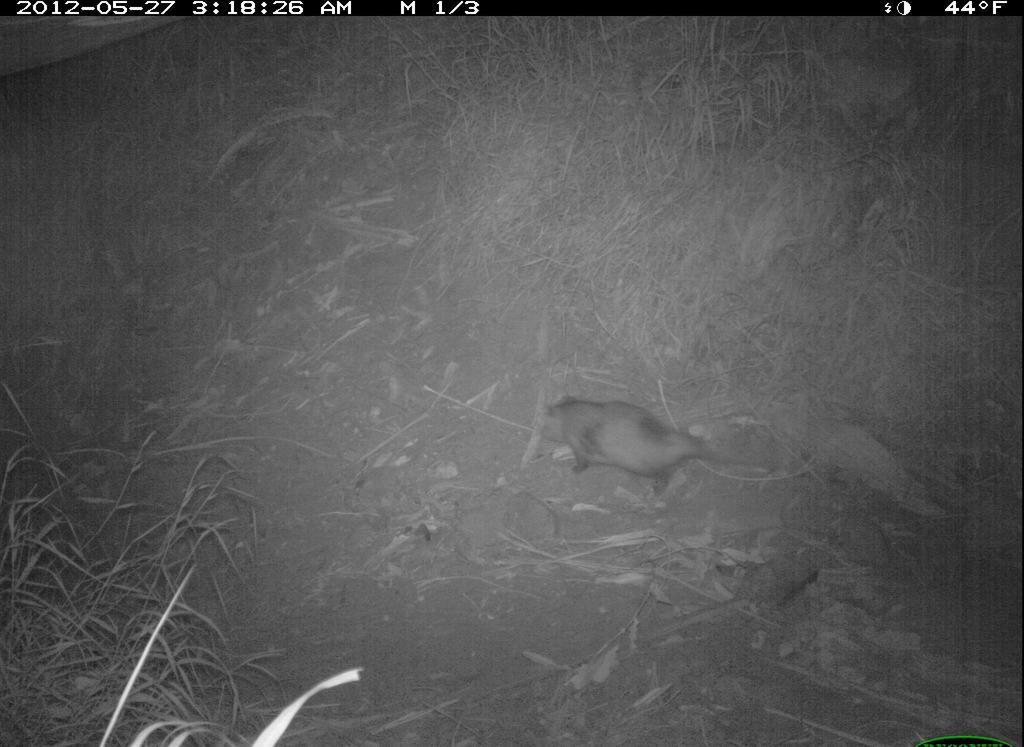opossum: (529, 373, 781, 504)
